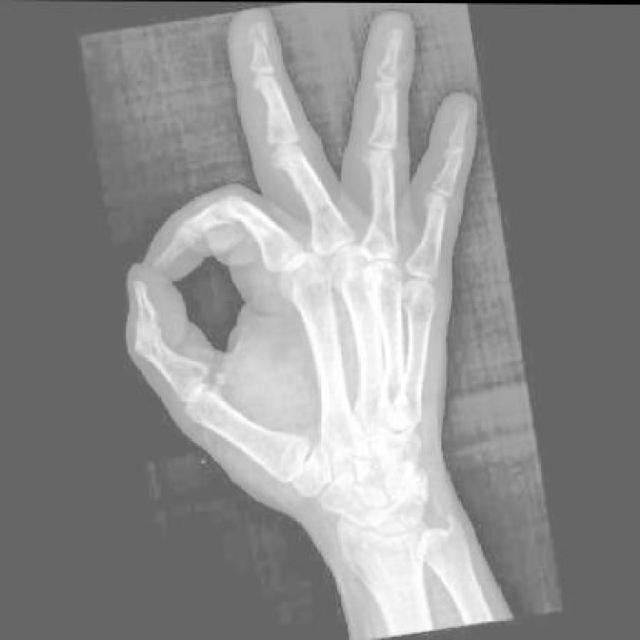Fracture: (374, 23, 402, 51), (243, 19, 266, 47)
